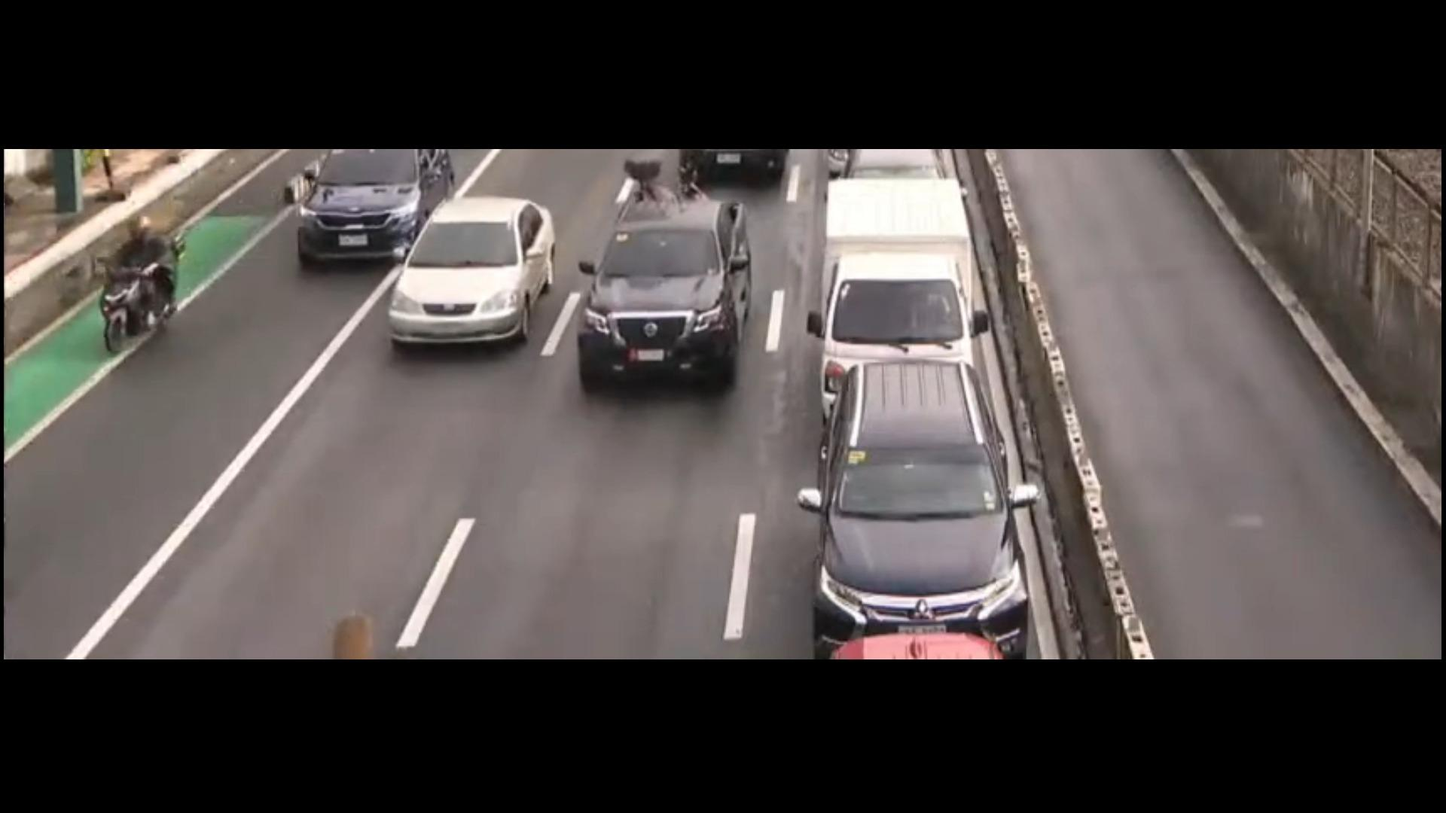Motorcycle: (94, 207, 187, 383)
SUV: (804, 354, 1053, 648), (555, 185, 772, 411), (289, 132, 467, 268)
Sedan: (352, 185, 571, 384)
Truck: (810, 160, 998, 410)
